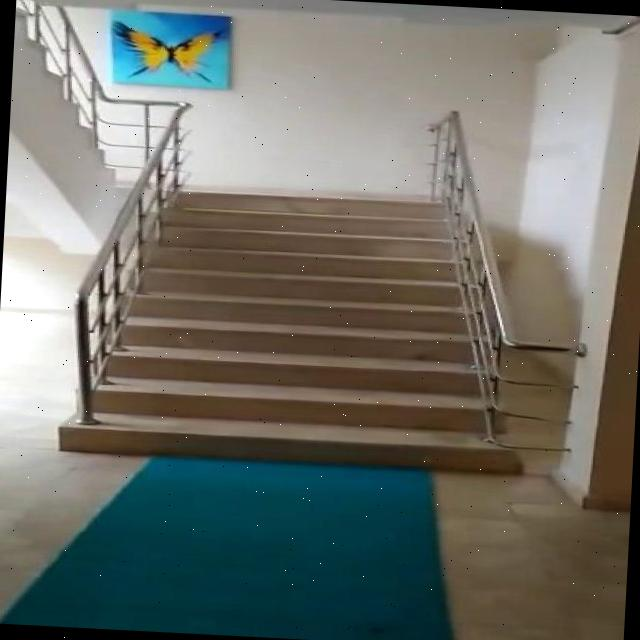stairs: (58, 181, 545, 476)
